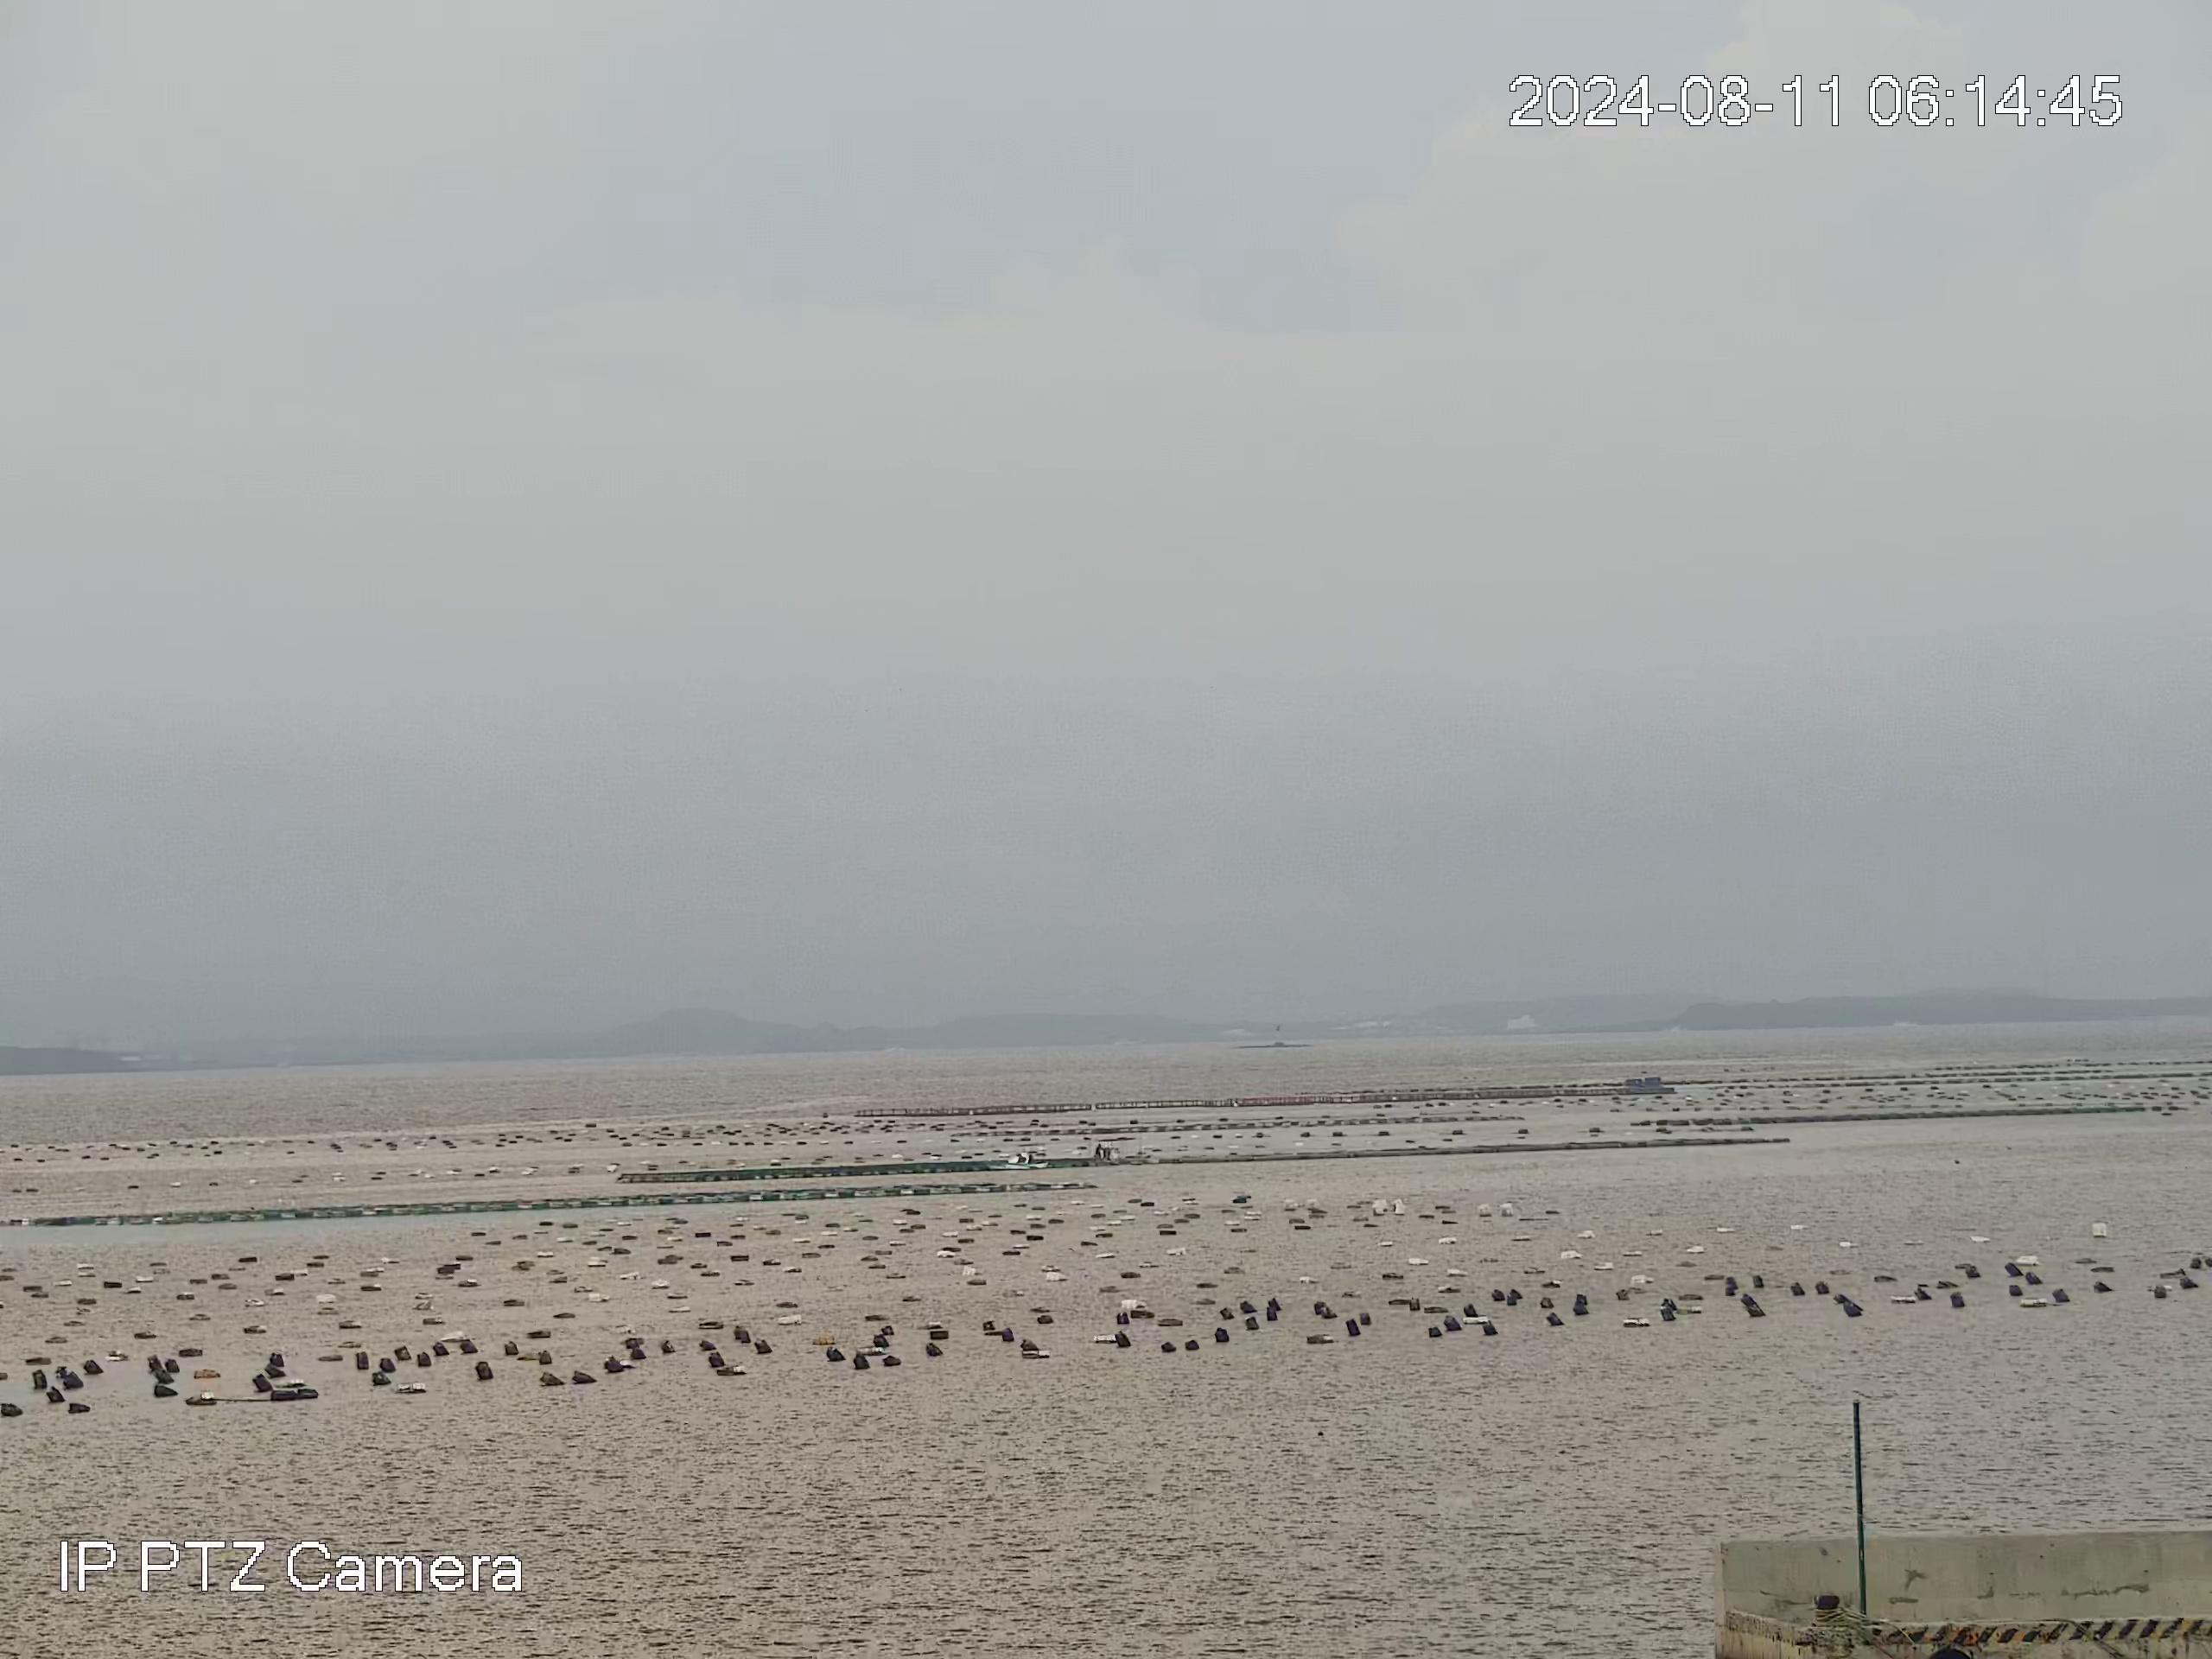boat: (983, 1149, 1052, 1172)
